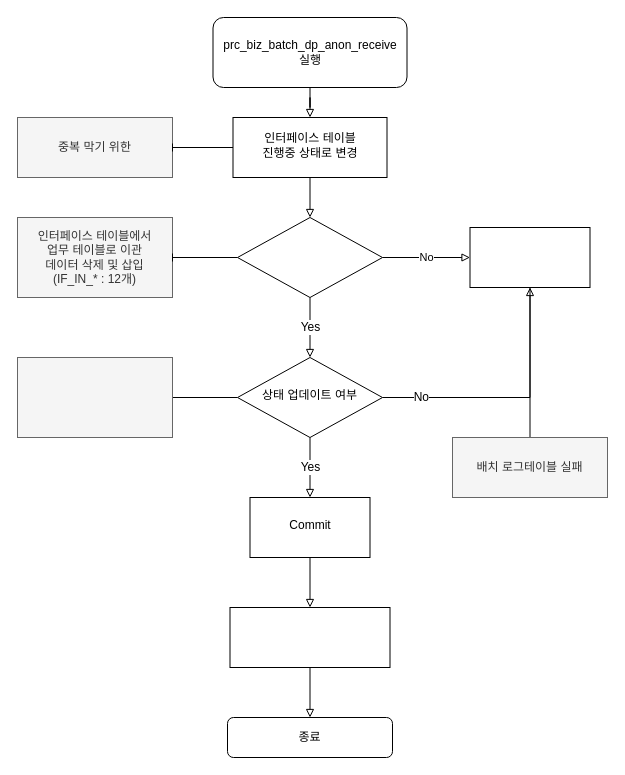
This 625x775 diagram has some shape labels left out. The shapes that lost their labels are listed below. From the top down, each one's centre as x and y in pixels, then its label:
At (309,257): "삭제 및 삽입 여부".
At (529,257): "Rollback".
At (94,397): "데이터 상태 값 및 날짜 업데이트".
At (309,637): "배치 로그테이블 성공".
